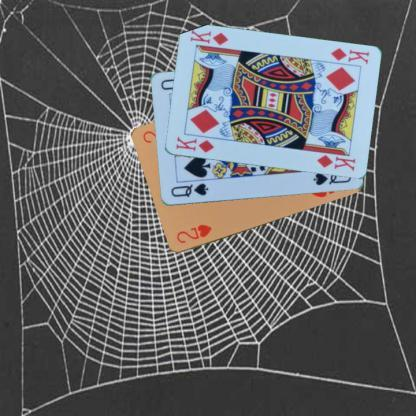2h: (174, 222, 213, 245)
Kd: (328, 45, 370, 66), (172, 134, 216, 154)
Qs: (168, 181, 210, 199)
